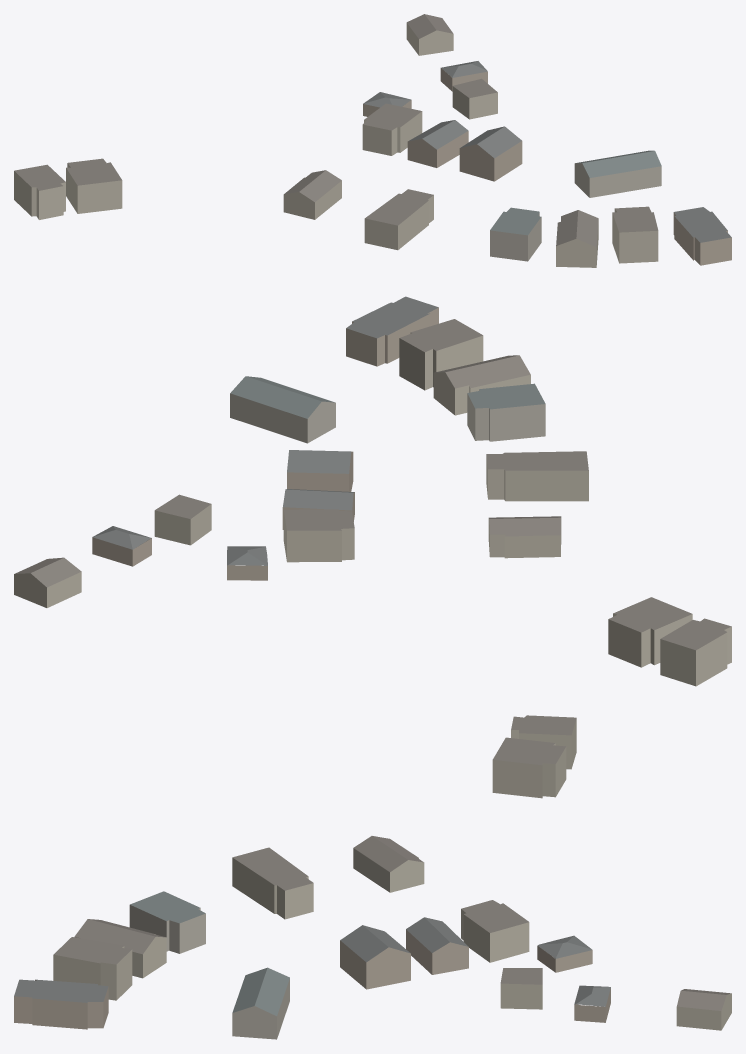
File: 5bb2e4743b40-chunk-1197_11837.glb
3 views of the same model, one above another, from view 1: azimuth 30°, elevation 25°; view 2: azimuth 150°, elevation 25°; view 3: azimuth 270°, elevation 25° (orthographic). The views are drawn at different scales.
Visible parts, largest first — view 1: building_77394, building_22356, building_158038, building_132453, building_127798, building_28227, building_157600, building_170755, building_63561, building_125541, building_44934, building_56970 (+4 smaller); view 2: building_22356, building_77394, building_63561, building_28227, building_132453, building_170755, building_158038, building_157600, building_125541, building_44934, building_127798, building_103034 (+4 smaller); view 3: building_132453, building_22356, building_158038, building_28227, building_127798, building_77394, building_157600, building_63561, building_44934, building_56970, building_125541, building_103034 (+4 smaller).
Boxes of the visible parts, bbox=[...] form: building_77394: bbox=[574, 150, 661, 197]; building_22356: bbox=[364, 189, 433, 250]; building_158038: bbox=[66, 158, 122, 213]; building_132453: bbox=[673, 207, 731, 265]; building_127798: bbox=[459, 126, 522, 181]; building_28227: bbox=[612, 206, 658, 263]; building_157600: bbox=[362, 103, 422, 155]; building_170755: bbox=[14, 164, 65, 219]; building_63561: bbox=[490, 207, 541, 261]; building_125541: bbox=[556, 210, 598, 267]; building_44934: bbox=[283, 170, 341, 219]; building_56970: bbox=[407, 120, 468, 167]; building_22356: bbox=[486, 451, 588, 501]; building_77394: bbox=[230, 376, 335, 443]; building_63561: bbox=[467, 383, 545, 441]; building_28227: bbox=[399, 319, 483, 390]; building_132453: bbox=[346, 296, 438, 366]; building_170755: bbox=[660, 618, 731, 686]; building_158038: bbox=[608, 597, 692, 667]; building_157600: bbox=[283, 509, 354, 562]; building_125541: bbox=[433, 355, 530, 415]; building_44934: bbox=[488, 516, 561, 558]; building_127798: bbox=[287, 450, 353, 491]; building_103034: bbox=[14, 557, 81, 607]; building_132453: bbox=[14, 979, 108, 1029]; building_22356: bbox=[232, 847, 313, 919]; building_158038: bbox=[492, 737, 566, 798]; building_28227: bbox=[53, 937, 132, 1000]; building_127798: bbox=[340, 925, 410, 989]; building_77394: bbox=[232, 967, 289, 1039]; building_157600: bbox=[461, 900, 529, 962]; building_63561: bbox=[129, 891, 205, 953]; building_44934: bbox=[353, 836, 424, 892]; building_56970: bbox=[406, 917, 468, 974]; building_125541: bbox=[74, 919, 166, 978]; building_103034: bbox=[676, 989, 731, 1030].
Bounding box in the file's own units: 118 × 7.15 × 123.
